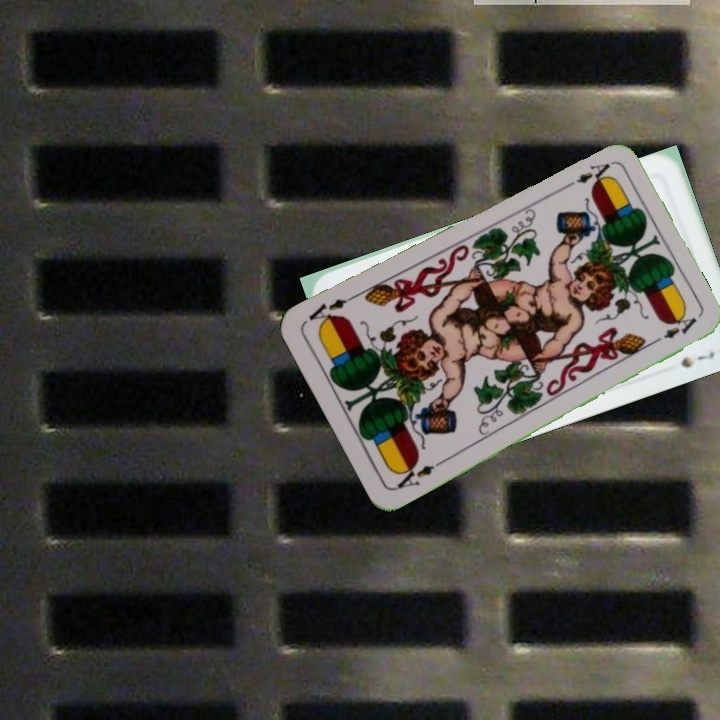EA: (558, 159, 613, 192), (390, 459, 437, 493)
